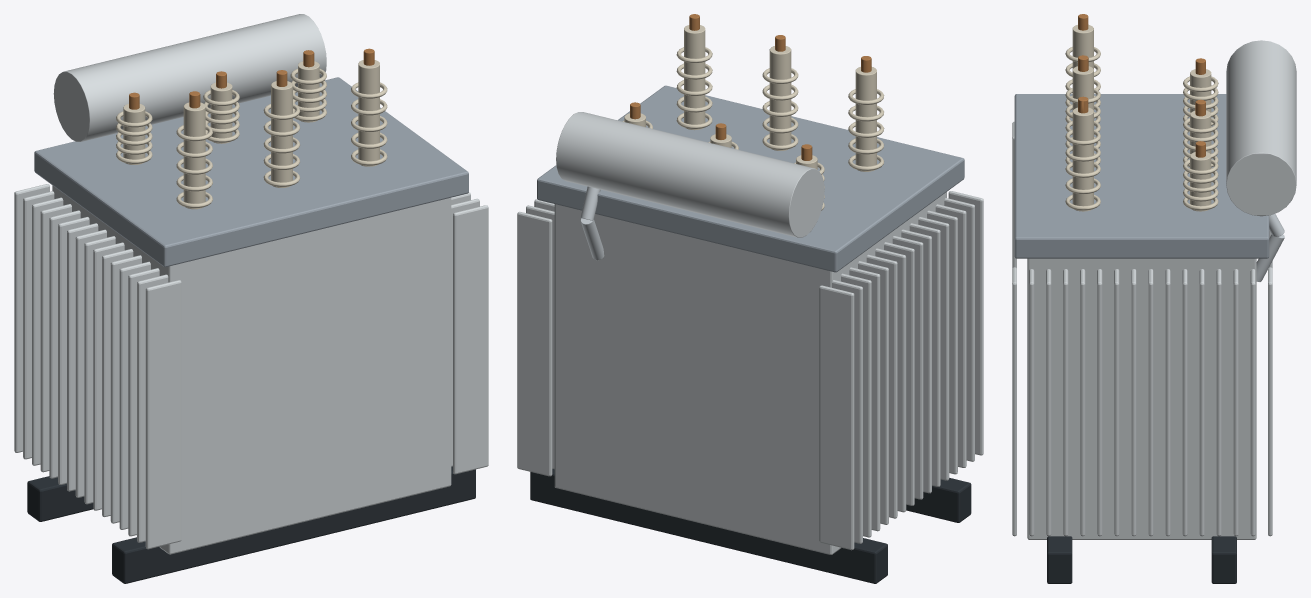
File: Transformer.glb
3 views of the same model, side by side, from view 1: azimuth 30°, elevation 25°; view 2: azimuth 150°, elevation 25°; view 3: azimuth 270°, elevation 25° (orthographic). The views are drawn at different scales.
Visible parts, largest first — view 1: Tank, Bushings_and_conservator; view 2: Tank, Bushings_and_conservator; view 3: Tank, Bushings_and_conservator.
Boxes of the visible parts, x1,y1,x2,y2 form: Tank: (14,77,488,583); Bushings_and_conservator: (53,14,387,209); Tank: (517,85,983,583); Bushings_and_conservator: (556,14,884,260); Tank: (1012,94,1272,583); Bushings_and_conservator: (1065,14,1296,281).
Bounding box in the file's own units: 2.02 × 2.5 × 1.45.
